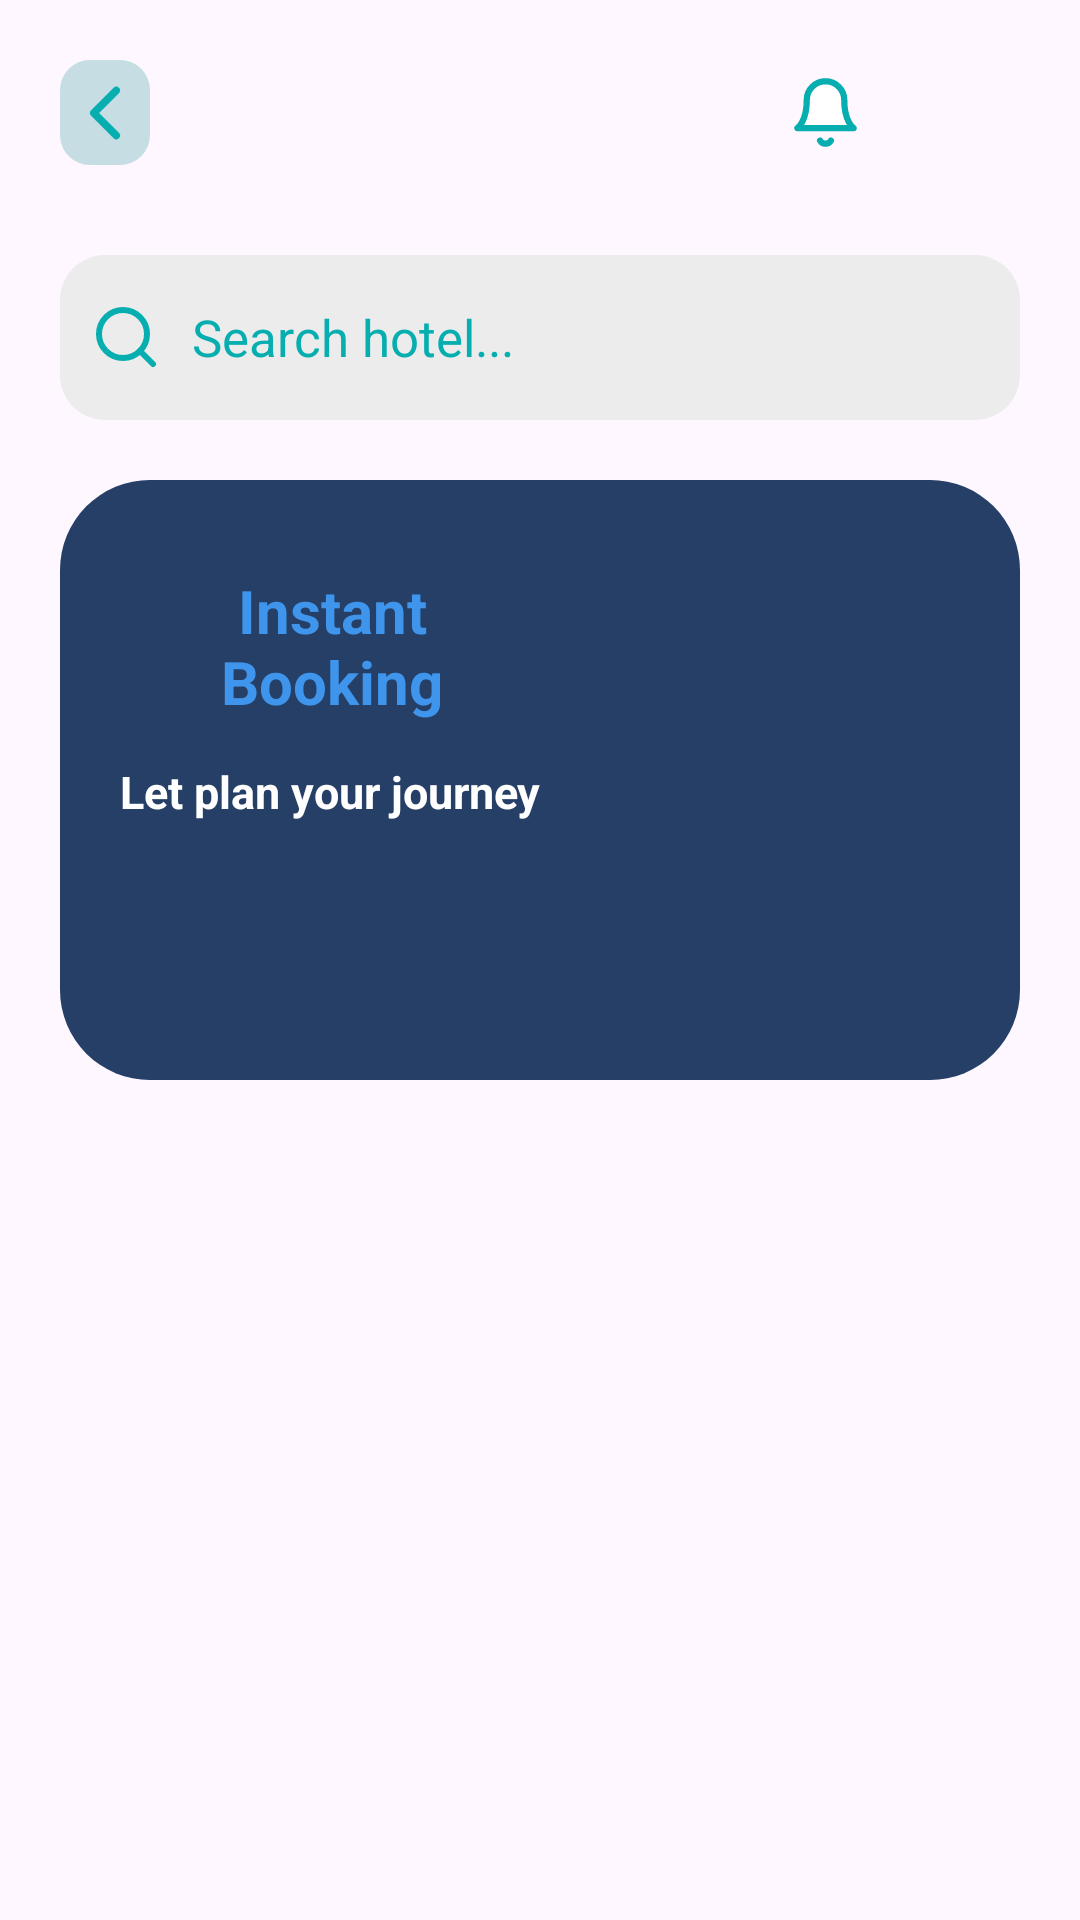

Screen size 1080w x 1920h. Icon name, then its box in pixels as (x1, y1, x2, y2):
bells: (794, 78, 857, 147)
chevron left: (60, 60, 150, 165)
